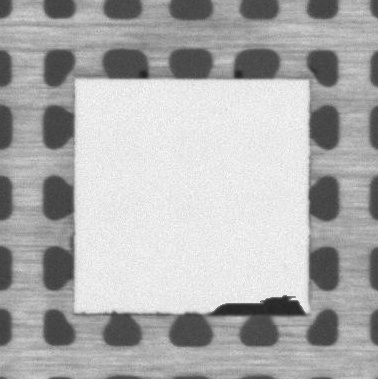DIE_BROKEN: (207, 294, 306, 317)
